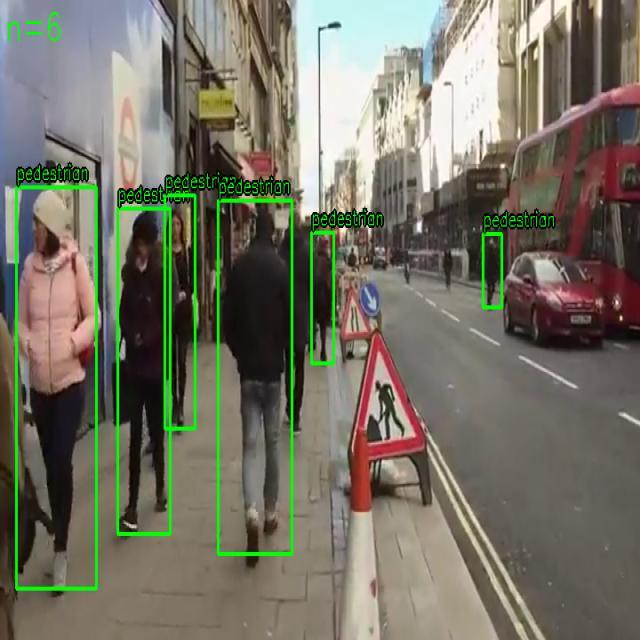with scooter: (16, 186, 97, 590), (218, 200, 292, 555), (118, 208, 170, 535), (164, 194, 196, 430), (311, 232, 334, 364), (482, 233, 502, 308)
